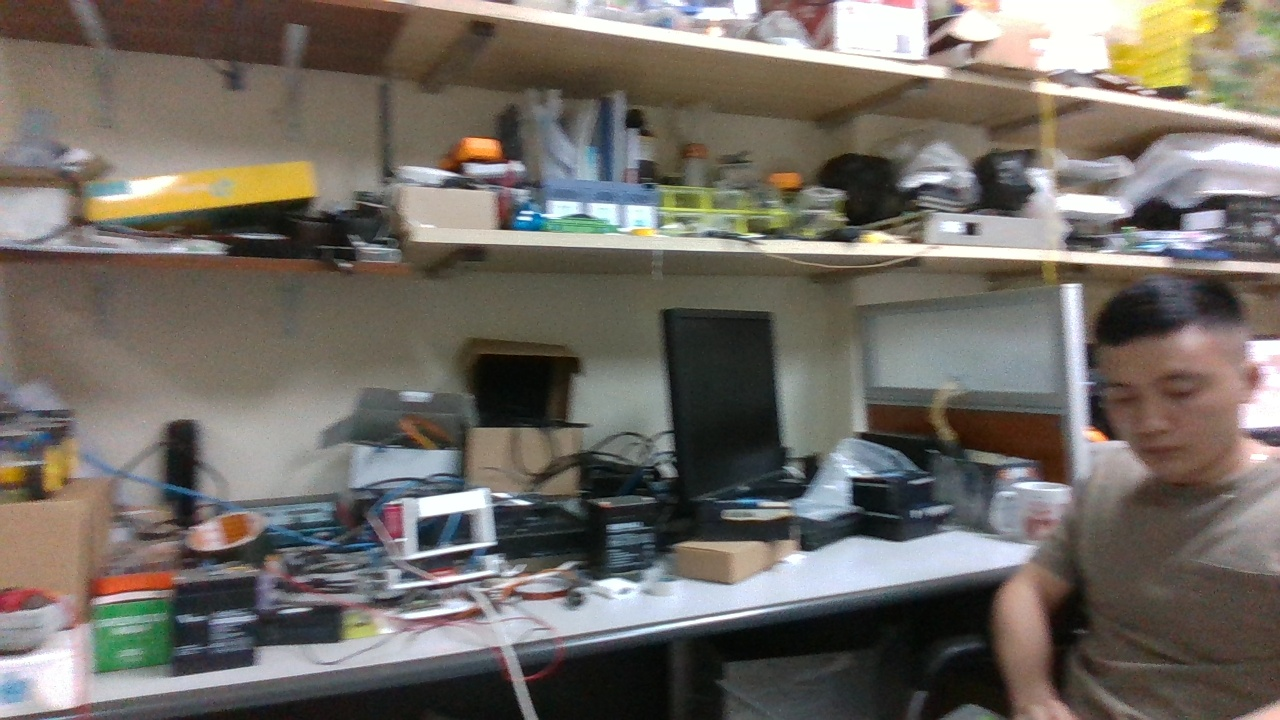person: (936, 265, 1277, 720)
